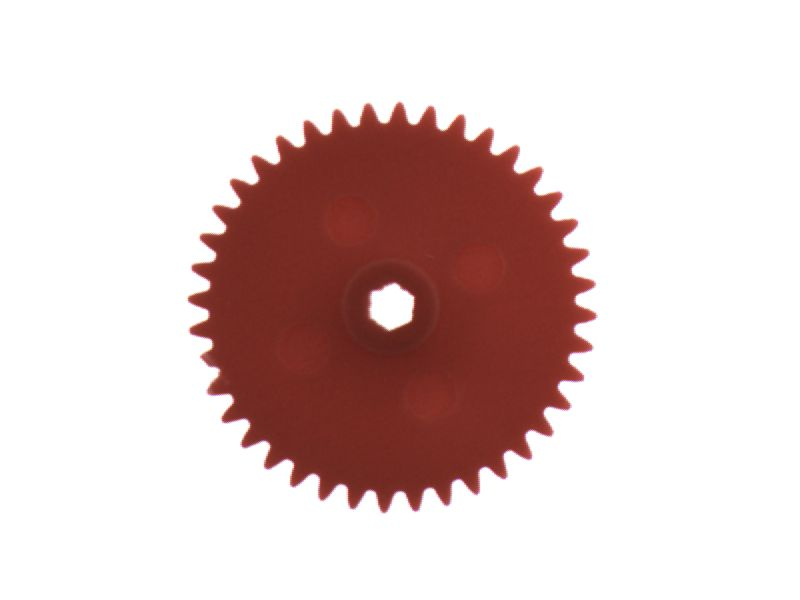defect_break: (174, 337, 231, 380)
